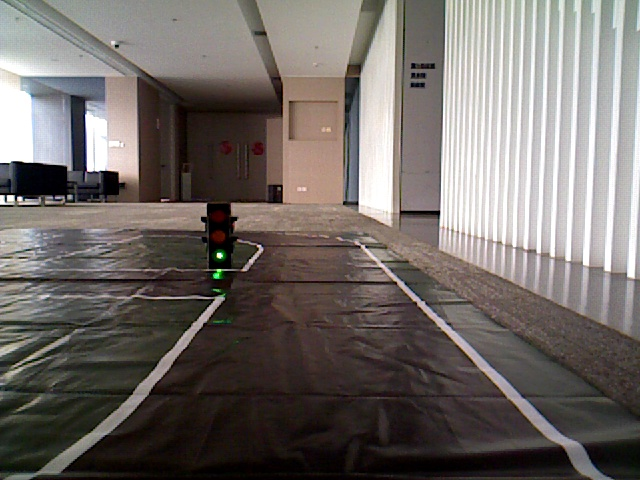green: (202, 203, 235, 262)
